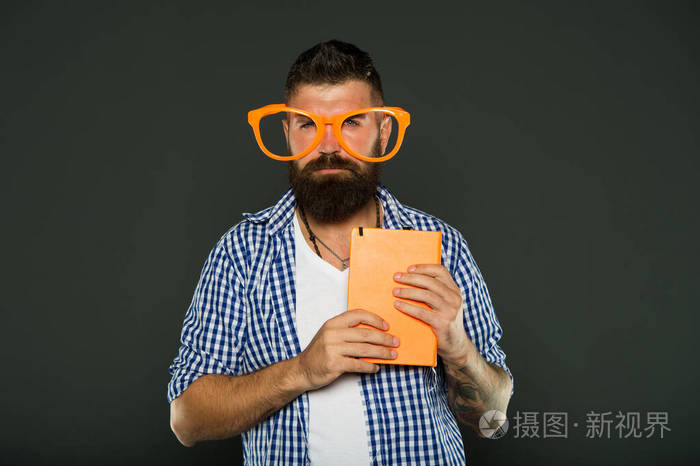no-phone: (289, 299, 400, 394), (389, 252, 466, 355)
